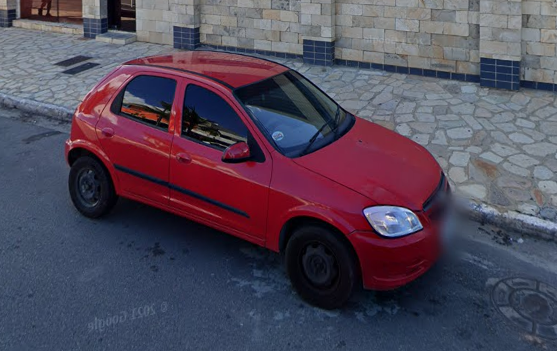car: (63, 42, 461, 310)
